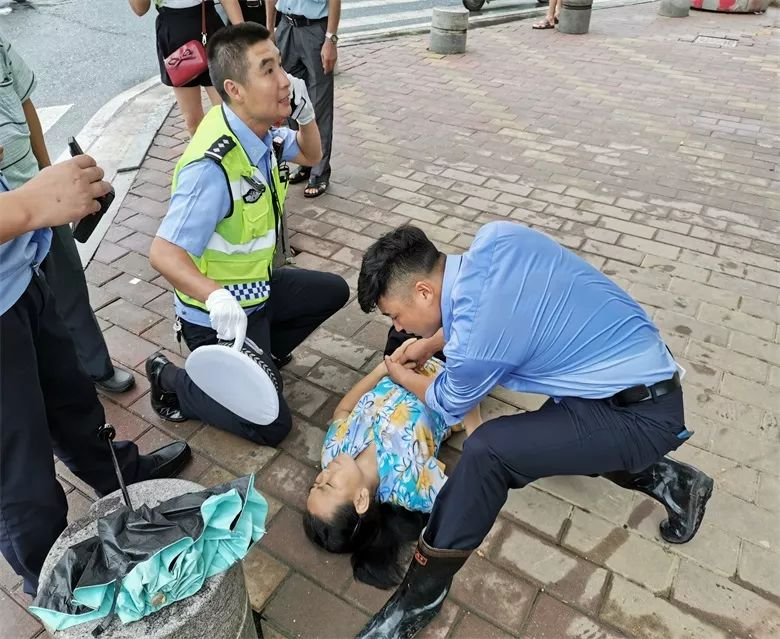fall: (288, 310, 512, 588)
